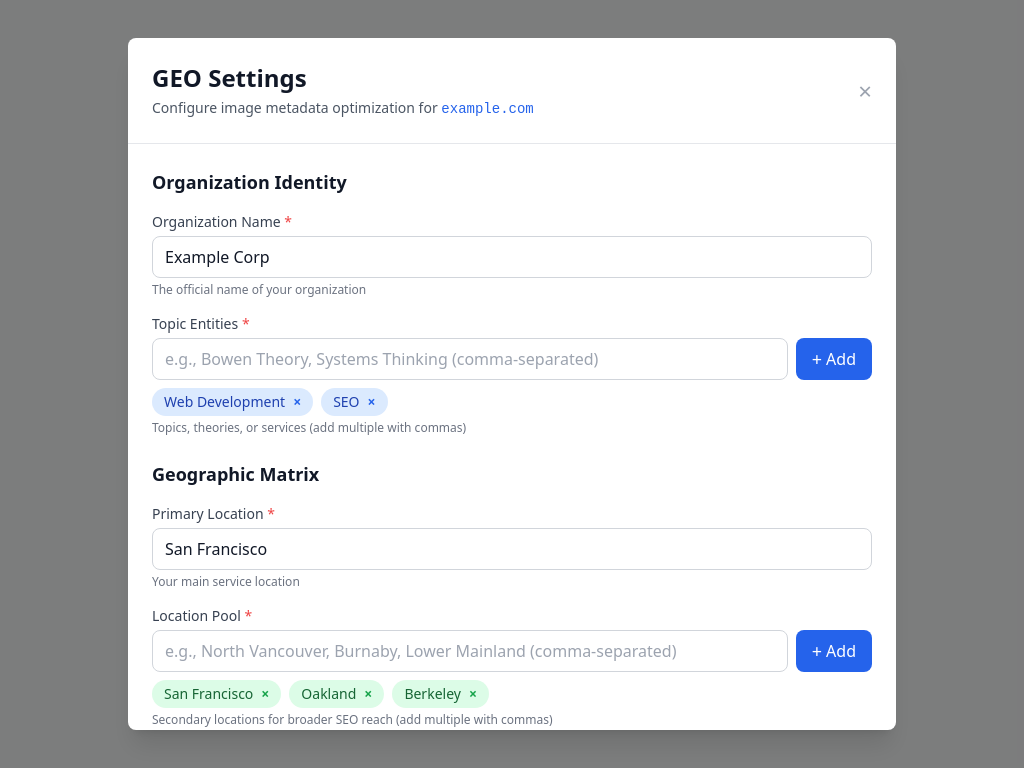
Scenario: GeoSettings › allows removing topic entities
Check: the text "Web Development" is shown, box [164, 392, 285, 412]
Note: Find the remove button (×) within the topic entity tag
Click the button "×" next to "Web Development".
click(297, 402)  # box [293, 395, 301, 409]
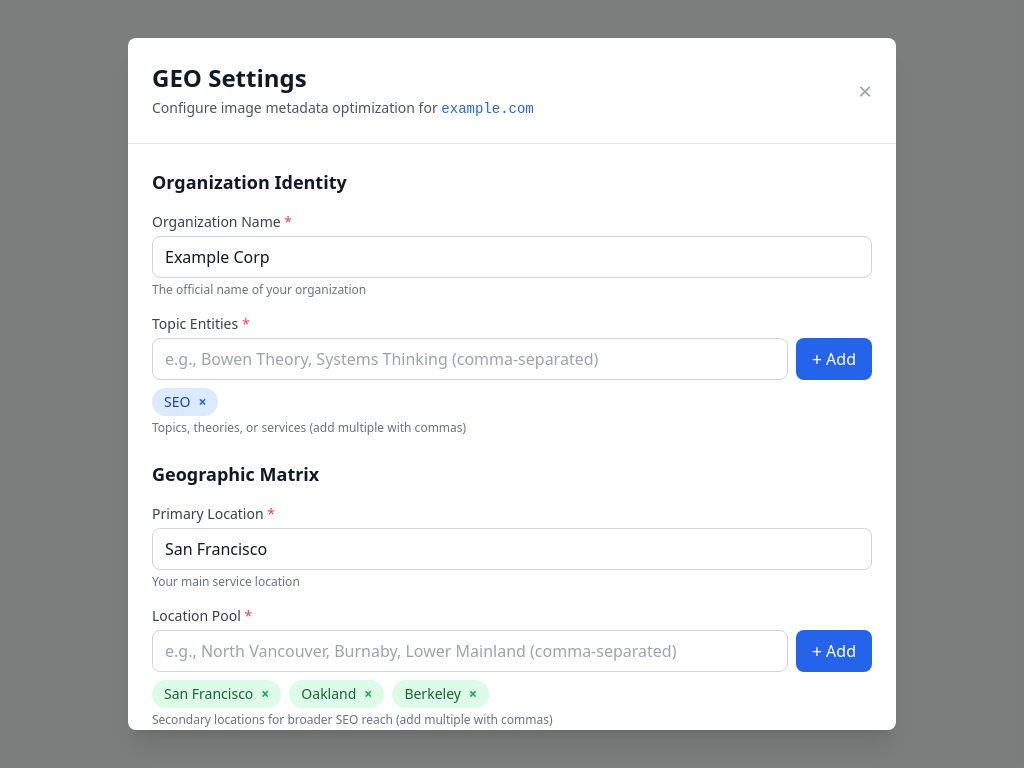
Check: the text "Web Development" is gone
